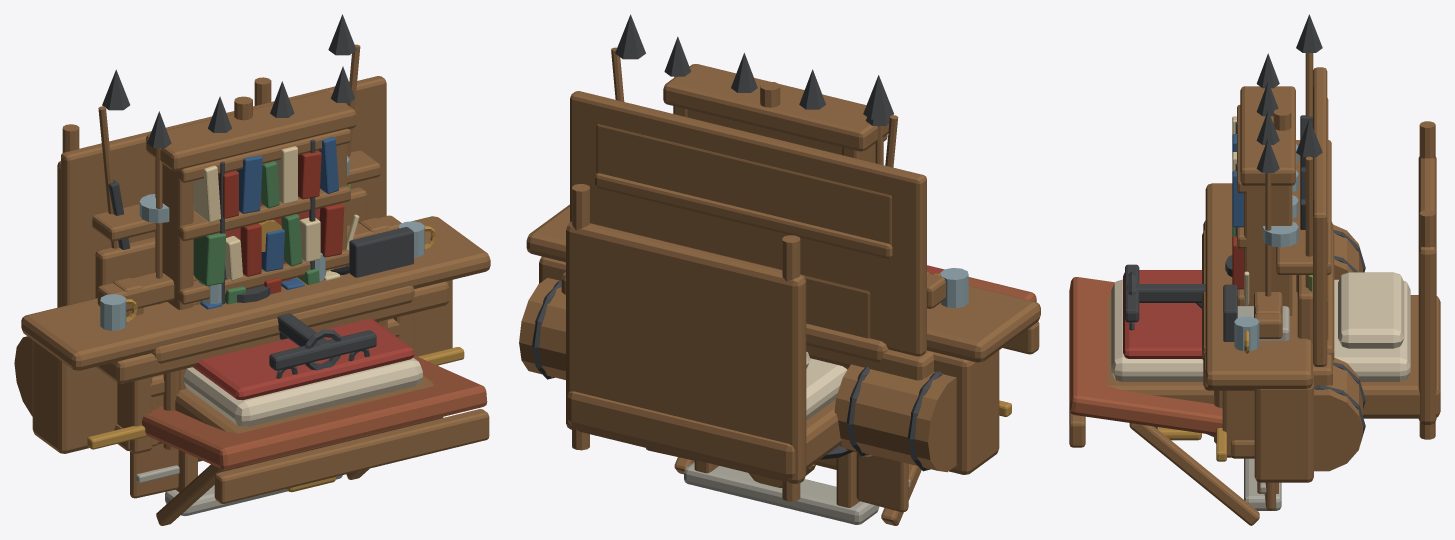
File: architecture_detail_kit_v2.glb
The picture shows the model from 3 angles, left to right: view 1: azimuth 30°, elevation 25°; view 2: azimuth 150°, elevation 25°; view 3: azimuth 270°, elevation 25°; orthographic projection. The views are drawn at different scales.
Visible parts, largest first — view 1: FurnitureBookcaseFull, FurnitureTavernSet, HouseDoorCanopy, FurnitureWorkshopSet, FurnitureBed, FurnitureGuardPost, CastleWeaponRack, FurnitureTable, HouseWindowSurround, HouseSignBracket, FurnitureKitchenSet, FurnitureReadingDesk; view 2: FurnitureBed, FurnitureWorkshopSet, FurnitureTavernSet, FurnitureKitchenSet, FurnitureBookcaseFull, HouseWindowSurround, FurnitureReadingDesk, FurnitureGuardPost, CastleWeaponRack, HouseDoorCanopy, FurnitureTable; view 3: FurnitureBed, FurnitureTavernSet, HouseDoorCanopy, FurnitureBookcaseFull, FurnitureWorkshopSet, CastleWeaponRack, FurnitureGuardPost, FurnitureKitchenSet, HouseSignBracket, FurnitureTable, HouseWindowSurround.
Boxes of the visible parts, x1=… form: FurnitureBookcaseFull: x1=146, y1=91, x2=356, y2=309; FurnitureTavernSet: x1=14, y1=216, x2=490, y2=453; HouseDoorCanopy: x1=142, y1=355, x2=489, y2=525; FurnitureWorkshopSet: x1=61, y1=76, x2=448, y2=453; FurnitureBed: x1=57, y1=77, x2=443, y2=468; FurnitureGuardPost: x1=95, y1=14, x2=400, y2=406; CastleWeaponRack: x1=97, y1=66, x2=401, y2=451; FurnitureTable: x1=152, y1=286, x2=414, y2=449; HouseWindowSurround: x1=130, y1=443, x2=342, y2=515; HouseSignBracket: x1=269, y1=313, x2=376, y2=378; FurnitureKitchenSet: x1=92, y1=150, x2=380, y2=446; FurnitureReadingDesk: x1=173, y1=214, x2=396, y2=390; FurnitureBed: x1=566, y1=184, x2=944, y2=501; FurnitureWorkshopSet: x1=561, y1=91, x2=933, y2=380; FurnitureTavernSet: x1=519, y1=204, x2=1040, y2=474; FurnitureKitchenSet: x1=595, y1=124, x2=892, y2=446; FurnitureBookcaseFull: x1=663, y1=64, x2=889, y2=164; HouseWindowSurround: x1=646, y1=448, x2=910, y2=524; FurnitureReadingDesk: x1=802, y1=275, x2=870, y2=451; FurnitureGuardPost: x1=611, y1=14, x2=898, y2=167; CastleWeaponRack: x1=664, y1=36, x2=945, y2=308; HouseDoorCanopy: x1=674, y1=277, x2=1039, y2=525; FurnitureTable: x1=806, y1=323, x2=888, y2=456; FurnitureBed: x1=1107, y1=121, x2=1440, y2=439; FurnitureTavernSet: x1=1205, y1=183, x2=1365, y2=482; HouseDoorCanopy: x1=1069, y1=277, x2=1259, y2=525; FurnitureBookcaseFull: x1=1232, y1=86, x2=1295, y2=315; FurnitureWorkshopSet: x1=1203, y1=67, x2=1332, y2=457; CastleWeaponRack: x1=1231, y1=53, x2=1282, y2=458; FurnitureGuardPost: x1=1273, y1=14, x2=1322, y2=343; FurnitureKitchenSet: x1=1225, y1=98, x2=1331, y2=291; HouseSignBracket: x1=1125, y1=264, x2=1205, y2=330; FurnitureTable: x1=1202, y1=230, x2=1334, y2=443; HouseWindowSurround: x1=1244, y1=458, x2=1281, y2=510.
Size of the model in its own units: 5.1 by 5.1 by 4.14.
